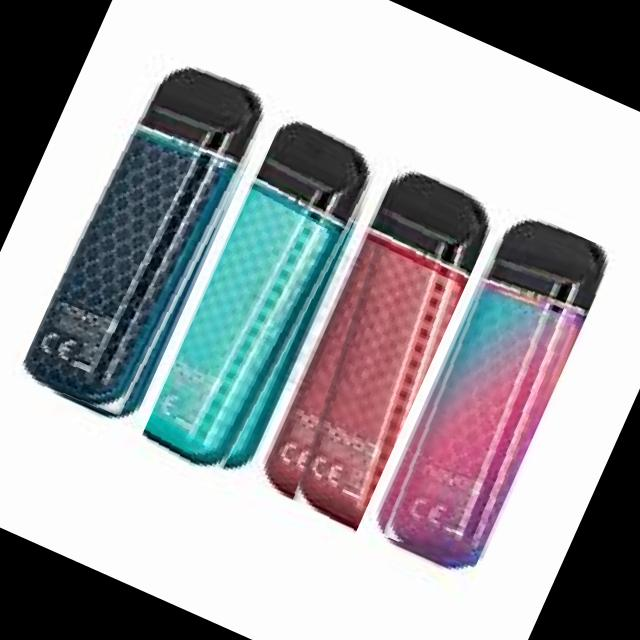Hazard: (17, 35, 286, 430), (137, 92, 397, 491), (255, 148, 508, 536), (368, 207, 615, 576)
